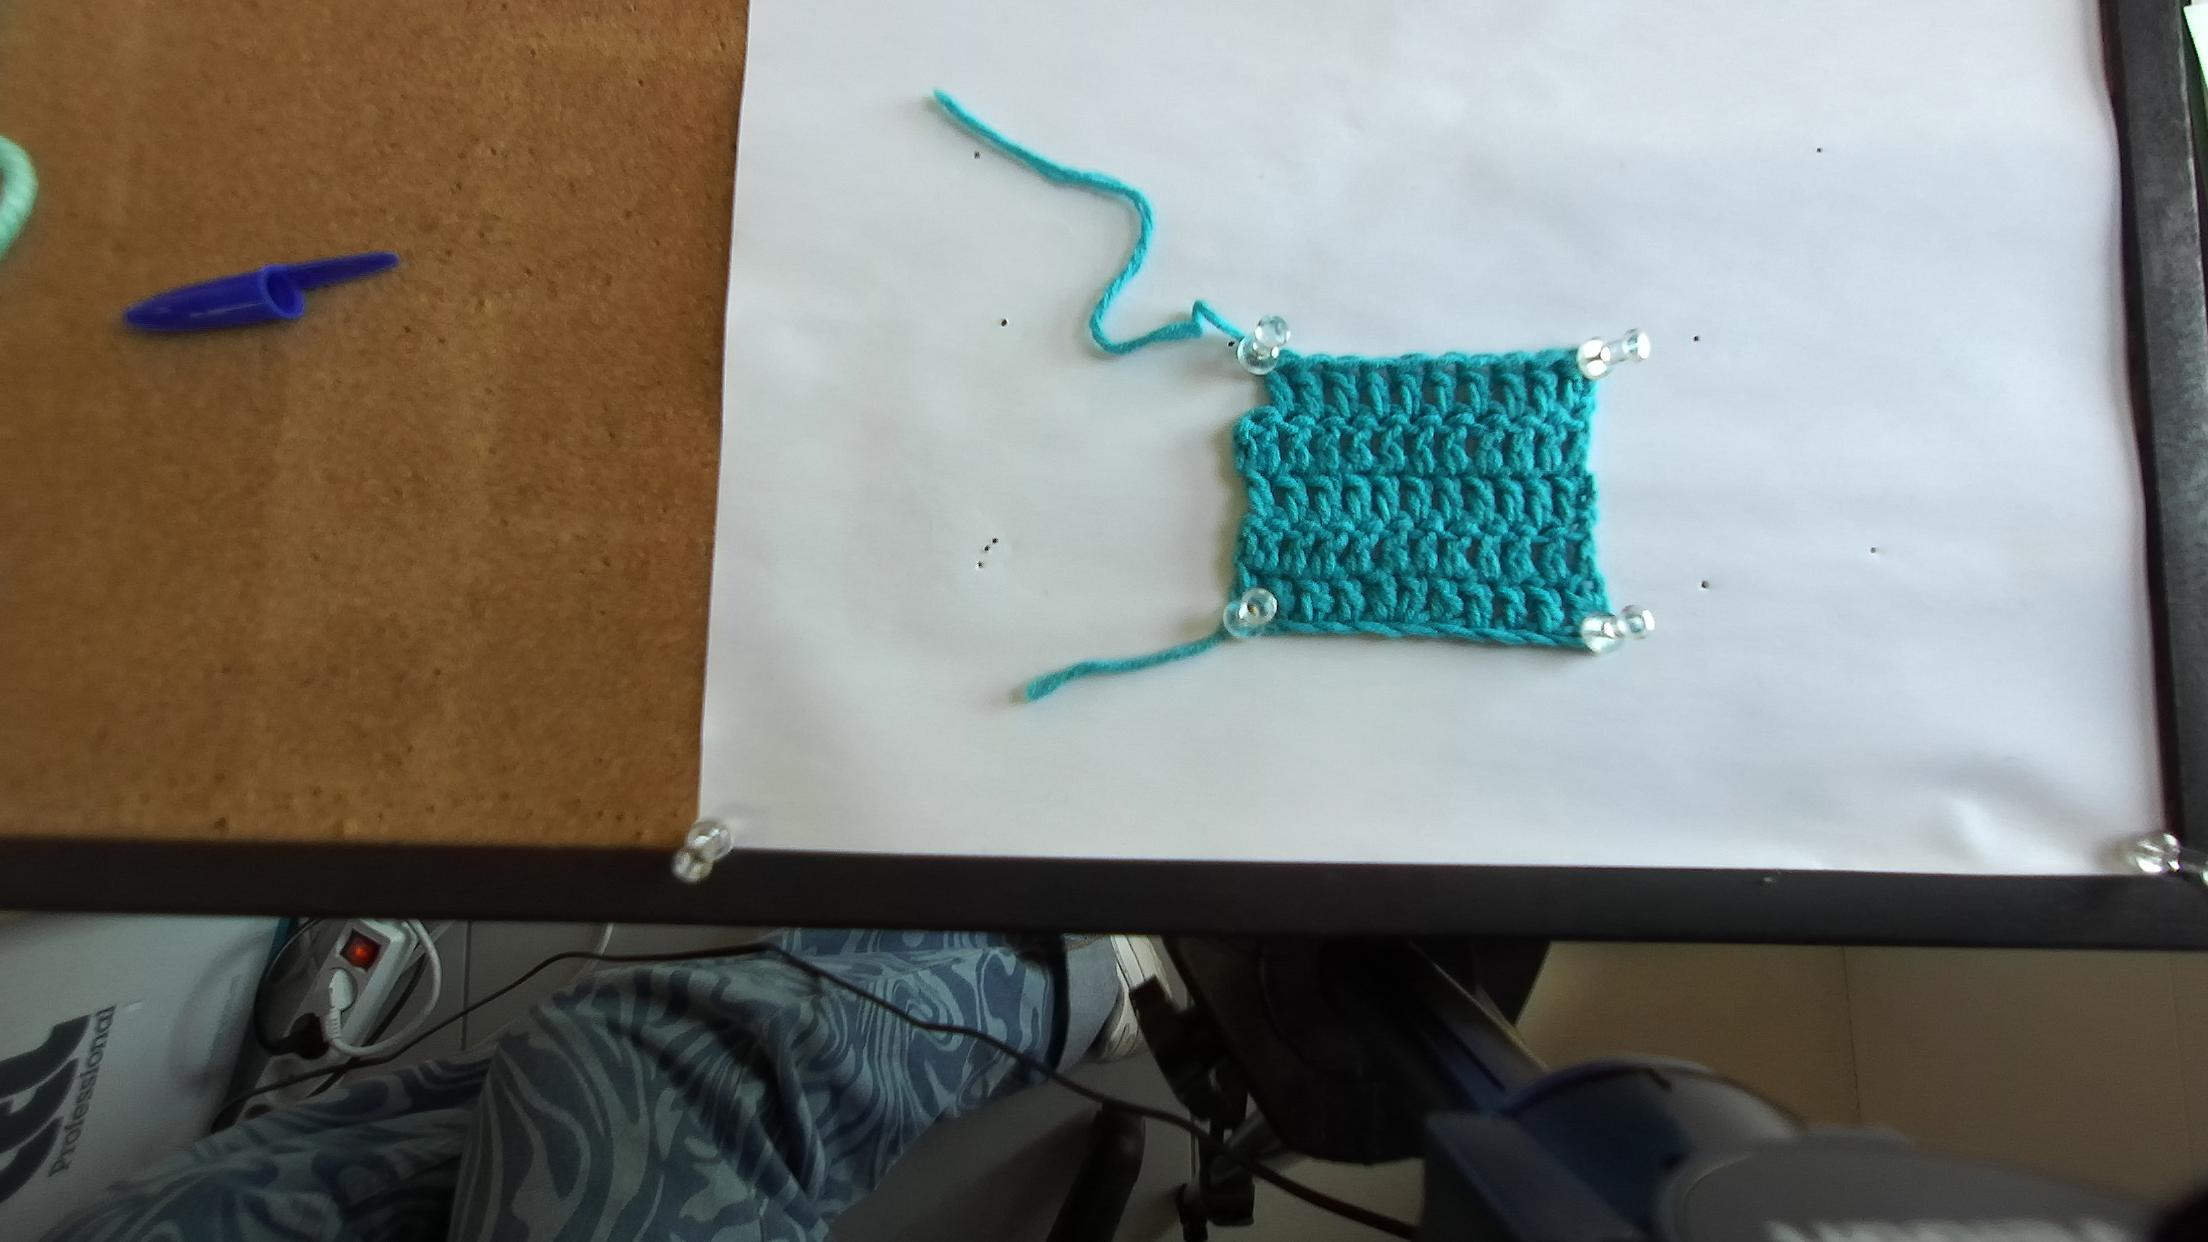hole: (1274, 361, 1298, 379), (1307, 362, 1330, 376), (1510, 361, 1529, 376), (1442, 362, 1460, 376), (1375, 367, 1398, 378), (1350, 364, 1365, 379), (1479, 362, 1495, 376), (1419, 362, 1433, 376), (1545, 362, 1562, 373)
swatch: (1219, 347, 1626, 657)
